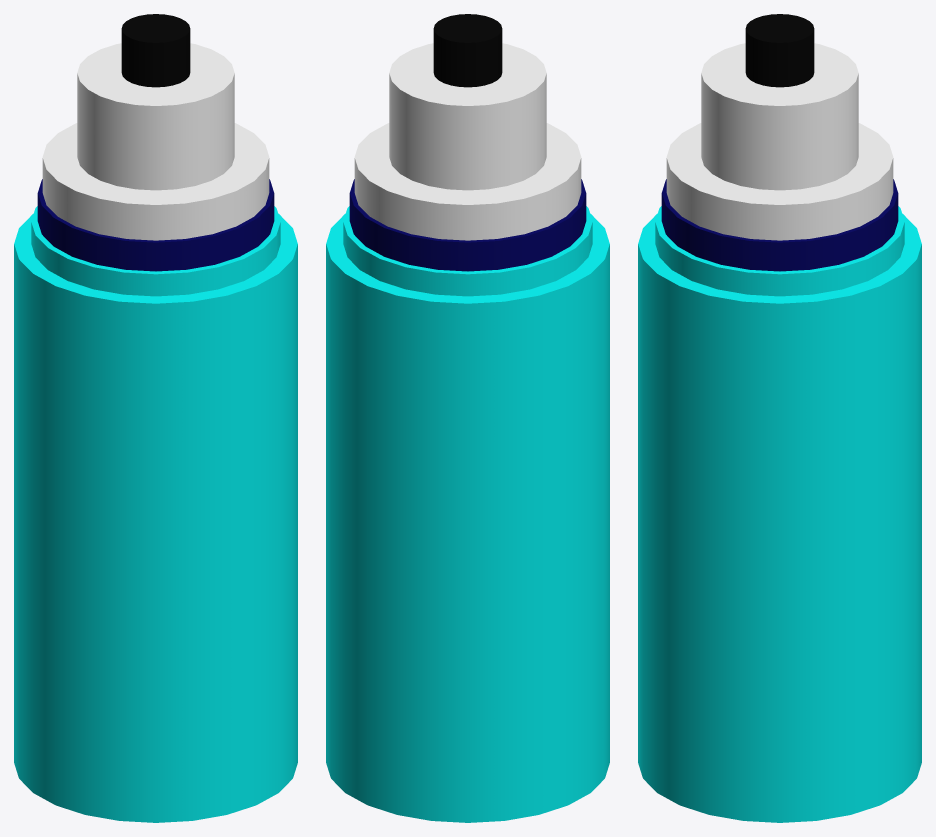
Rendered from Water.fbx.
The picture shows the model from 3 angles, left to right: view 1: azimuth 30°, elevation 25°; view 2: azimuth 150°, elevation 25°; view 3: azimuth 270°, elevation 25°; orthographic projection.
Parts seen in each view (by area): view 1: Model; view 2: Model; view 3: Model.
Part boxes in pixels (bbox=[...]): Model: bbox=[14, 14, 297, 822]; Model: bbox=[326, 14, 609, 822]; Model: bbox=[638, 14, 921, 822].
Size of the model in its own units: 7.24 by 20.69 by 7.24.
